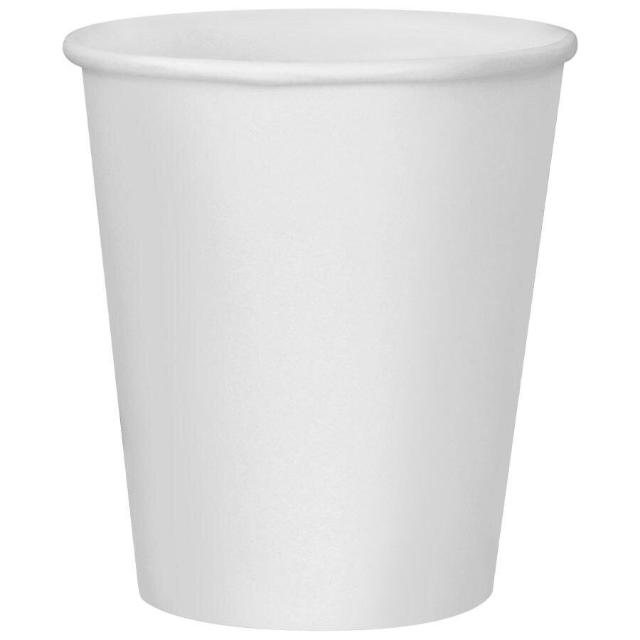trash: (73, 1, 573, 624)
